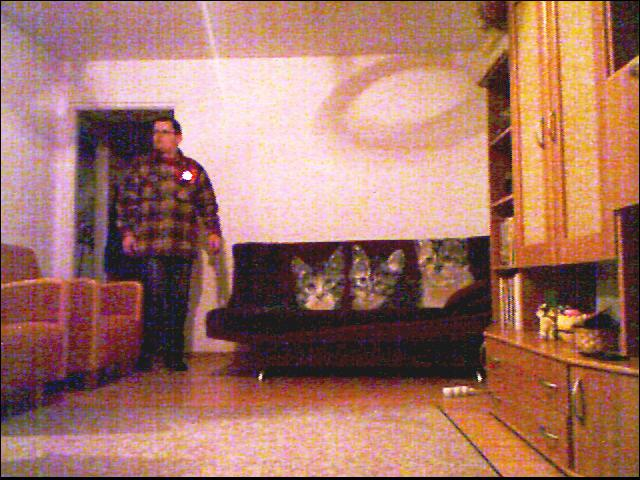walking: (96, 90, 234, 399)
